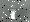person: (11, 6, 18, 19)
